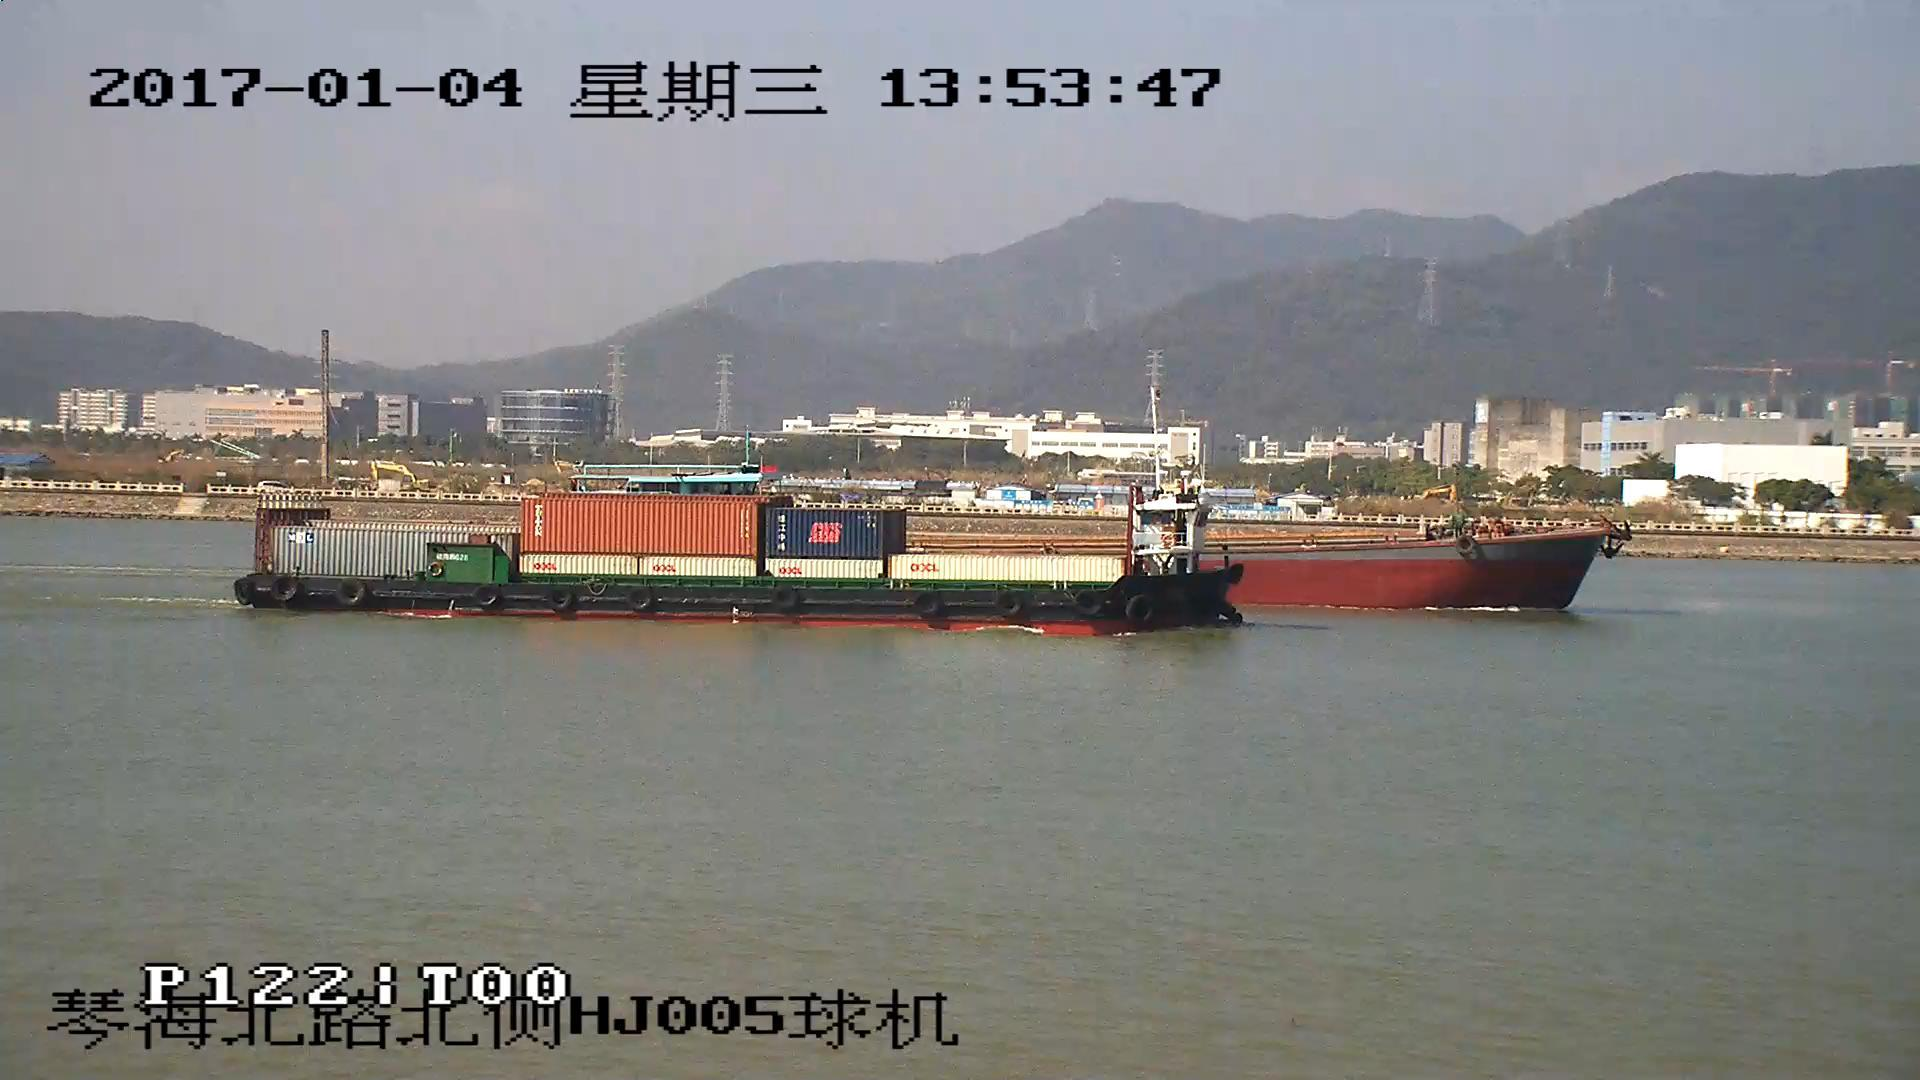Ship: (243, 491, 1247, 625), (1240, 508, 1619, 615)
